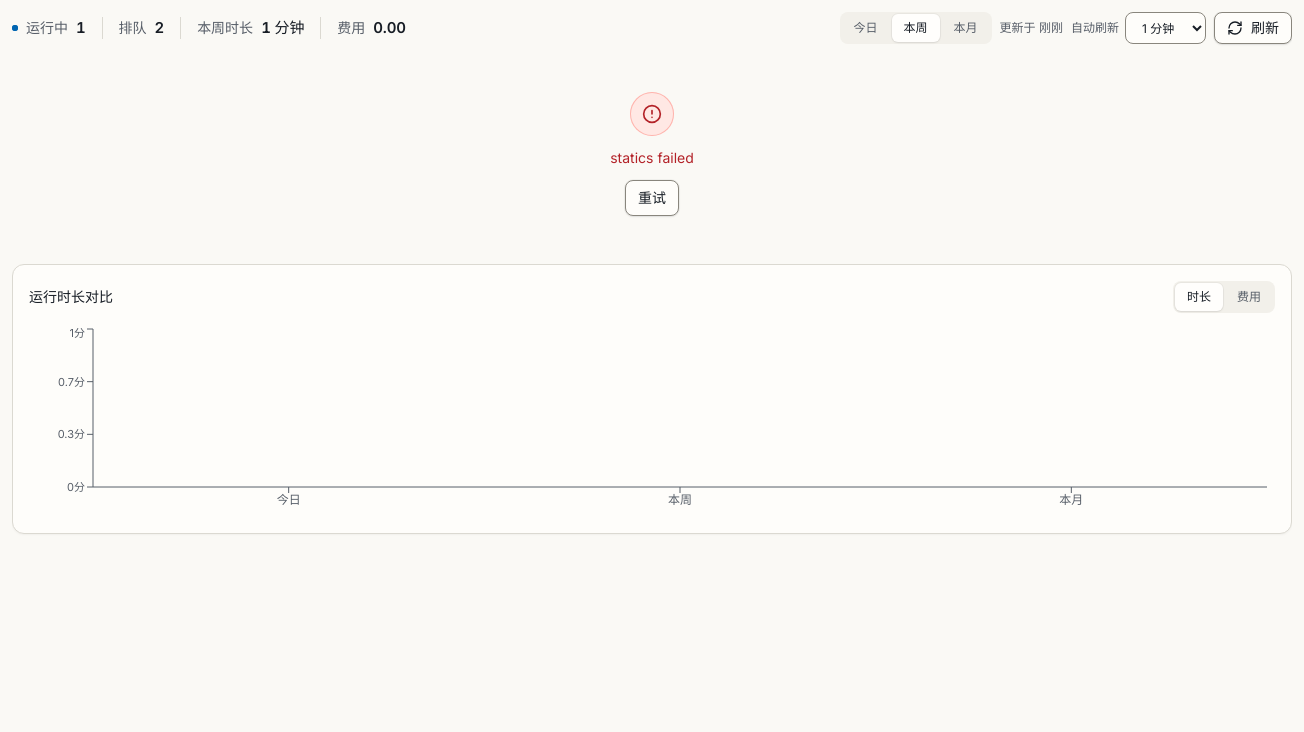
Test case: DashboardPage › shows statics errors instead of an empty state
Expected: the text "statics failed" is shown, [610, 148, 694, 168]
Expected: the text "暂无最近任务" is not shown
Click the button "重试" at x=652, y=198, box [625, 180, 679, 216]
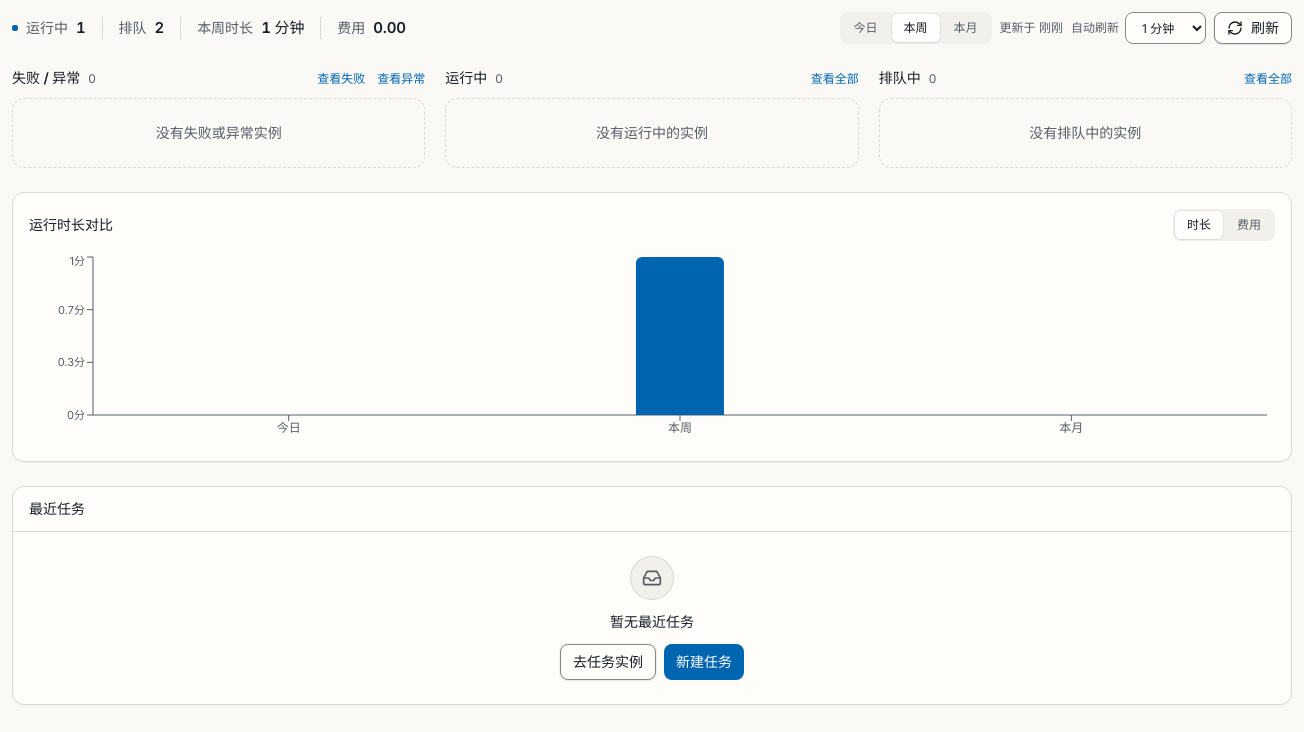
Now the text "没有失败或异常实例" is shown, box [12, 98, 425, 168]
